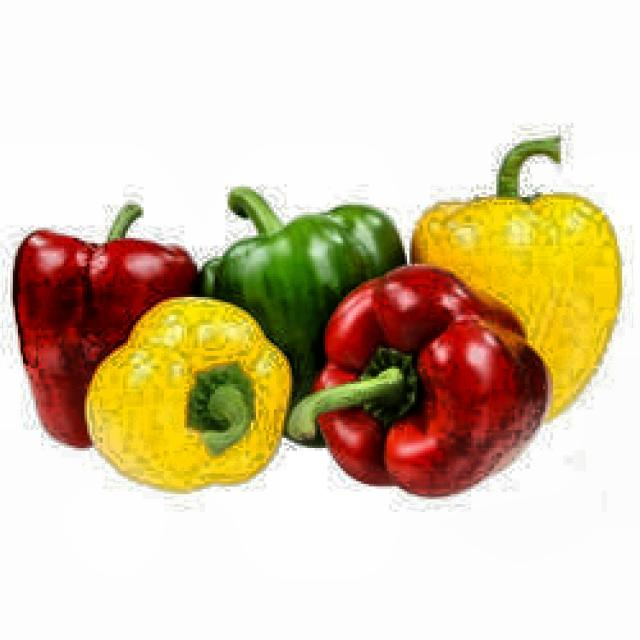capsicum: (78, 282, 276, 496)
green pepper: (175, 184, 408, 357)
red capsicum: (321, 295, 549, 500), (14, 201, 154, 448)
